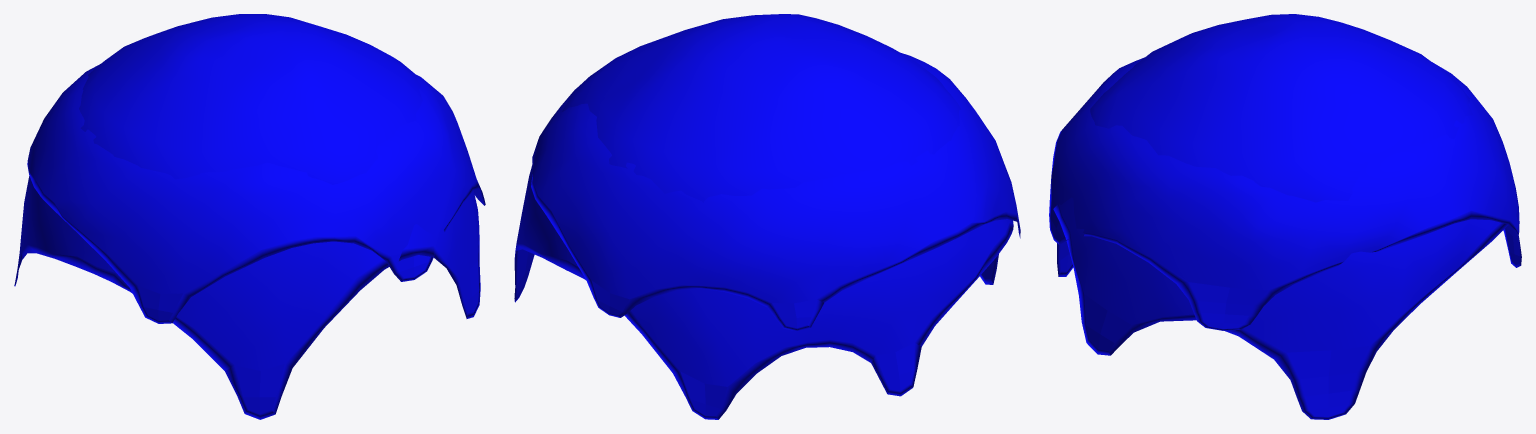
File: Sauce.fbx
The picture shows the model from 3 angles, left to right: view 1: azimuth 30°, elevation 25°; view 2: azimuth 150°, elevation 25°; view 3: azimuth 270°, elevation 25°; orthographic projection. The views are drawn at different scales.
Parts seen in each view (by area): view 1: Sauce, Sauce2; view 2: Sauce, Sauce2; view 3: Sauce, Sauce2.
Boxes of the visible parts, bbox=[...] form: Sauce: bbox=[14, 14, 480, 419]; Sauce2: bbox=[27, 64, 485, 323]; Sauce: bbox=[514, 14, 1013, 419]; Sauce2: bbox=[531, 53, 1020, 331]; Sauce: bbox=[1053, 14, 1521, 419]; Sauce2: bbox=[1049, 57, 1519, 330].
Size of the model in its own units: 61.72 by 41.39 by 61.04.
